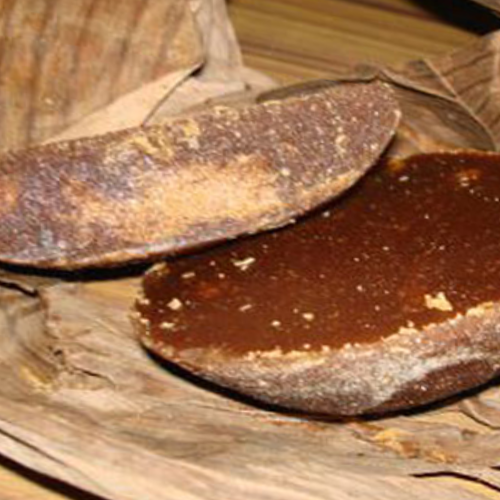hakuru: (120, 102, 500, 436), (0, 7, 399, 308)
